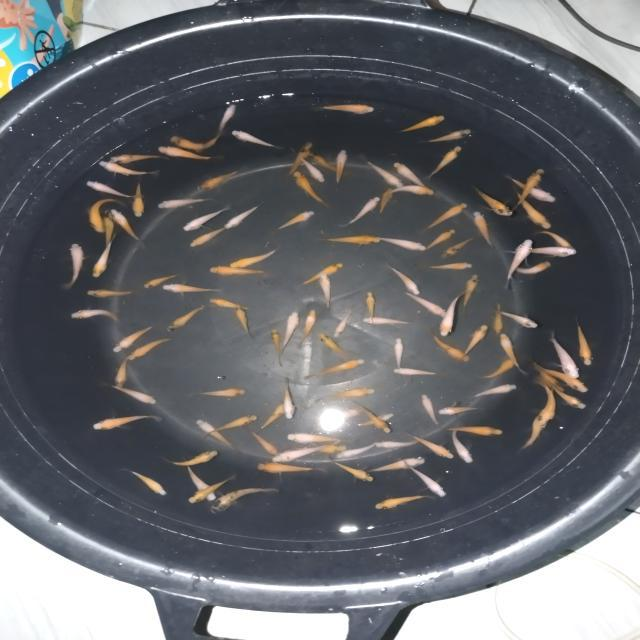nila: (207, 486, 285, 516), (402, 458, 452, 500), (298, 356, 368, 384), (106, 206, 148, 252), (300, 384, 380, 408), (515, 187, 559, 230), (197, 411, 264, 439), (380, 258, 426, 298), (547, 330, 582, 382), (185, 472, 238, 506), (504, 236, 536, 292), (402, 429, 456, 462), (510, 166, 548, 212), (100, 378, 158, 408), (337, 194, 388, 228), (511, 411, 553, 452), (357, 154, 404, 190), (504, 172, 556, 204), (229, 127, 288, 155), (351, 398, 395, 435), (400, 288, 450, 320), (292, 168, 332, 208), (166, 302, 210, 338), (315, 332, 364, 364), (467, 186, 516, 218), (109, 322, 158, 354), (90, 232, 122, 281), (497, 330, 529, 378), (196, 418, 237, 455), (192, 167, 248, 194), (293, 261, 345, 290), (434, 292, 468, 336), (94, 156, 160, 178), (470, 206, 500, 254), (86, 197, 126, 233), (283, 138, 318, 179), (184, 460, 218, 502), (448, 422, 482, 464), (175, 206, 234, 230), (87, 414, 165, 432), (60, 240, 86, 294), (540, 366, 590, 394), (290, 146, 326, 184), (120, 467, 164, 498), (459, 321, 492, 362), (126, 336, 178, 362), (327, 456, 375, 484), (278, 308, 306, 356), (364, 456, 431, 476), (530, 355, 565, 393), (426, 202, 470, 232), (392, 159, 432, 192), (164, 130, 224, 152), (369, 492, 434, 512), (254, 399, 292, 433), (475, 354, 521, 382), (394, 112, 447, 136), (152, 449, 222, 467), (572, 320, 598, 368), (496, 306, 544, 332), (186, 224, 232, 251), (255, 461, 328, 478), (426, 146, 462, 180), (534, 226, 579, 253), (226, 246, 281, 268), (225, 201, 268, 229), (430, 334, 470, 364), (310, 148, 350, 178), (156, 142, 222, 160), (370, 234, 428, 254), (84, 180, 136, 202), (420, 126, 476, 146), (316, 101, 378, 119), (456, 270, 482, 312), (268, 446, 328, 464), (157, 280, 229, 295), (212, 101, 242, 136), (550, 387, 590, 413), (330, 306, 357, 344), (352, 409, 404, 428), (420, 228, 458, 254), (278, 428, 348, 442), (274, 209, 318, 231), (270, 325, 290, 373), (540, 378, 558, 431), (100, 207, 121, 252), (280, 372, 298, 424), (298, 308, 319, 352), (334, 440, 380, 460), (206, 266, 276, 279), (360, 313, 420, 328), (515, 247, 584, 260), (246, 427, 278, 455), (152, 196, 216, 210), (442, 234, 479, 258), (314, 234, 382, 247), (386, 184, 434, 202), (331, 144, 351, 187), (233, 306, 258, 340), (472, 383, 524, 399), (443, 424, 512, 436), (508, 260, 554, 278), (64, 308, 123, 322), (100, 152, 168, 164), (113, 354, 134, 392), (376, 182, 396, 221), (84, 288, 148, 300), (189, 386, 248, 399), (420, 390, 440, 428), (130, 176, 148, 218), (390, 366, 446, 379), (362, 288, 380, 326), (138, 272, 176, 290), (294, 442, 350, 454), (434, 404, 484, 417), (318, 270, 334, 310), (389, 334, 406, 371), (206, 298, 256, 310), (420, 260, 478, 270), (374, 438, 424, 449), (492, 301, 508, 335), (338, 405, 372, 420)
